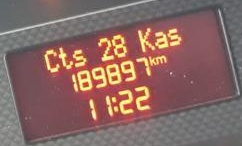1: (87, 97, 96, 120), (104, 94, 113, 116), (71, 72, 78, 92)
2: (97, 36, 114, 61), (133, 85, 150, 110), (117, 88, 133, 114)
7: (135, 56, 150, 76)
8: (111, 33, 127, 58), (75, 69, 92, 91), (104, 63, 121, 84)
9: (90, 65, 106, 88), (119, 59, 135, 82)
X: (136, 26, 154, 52), (43, 48, 59, 72), (57, 46, 73, 69), (165, 27, 181, 45), (71, 48, 86, 67), (153, 30, 167, 48), (110, 96, 118, 112), (155, 54, 166, 64), (147, 55, 155, 65)
